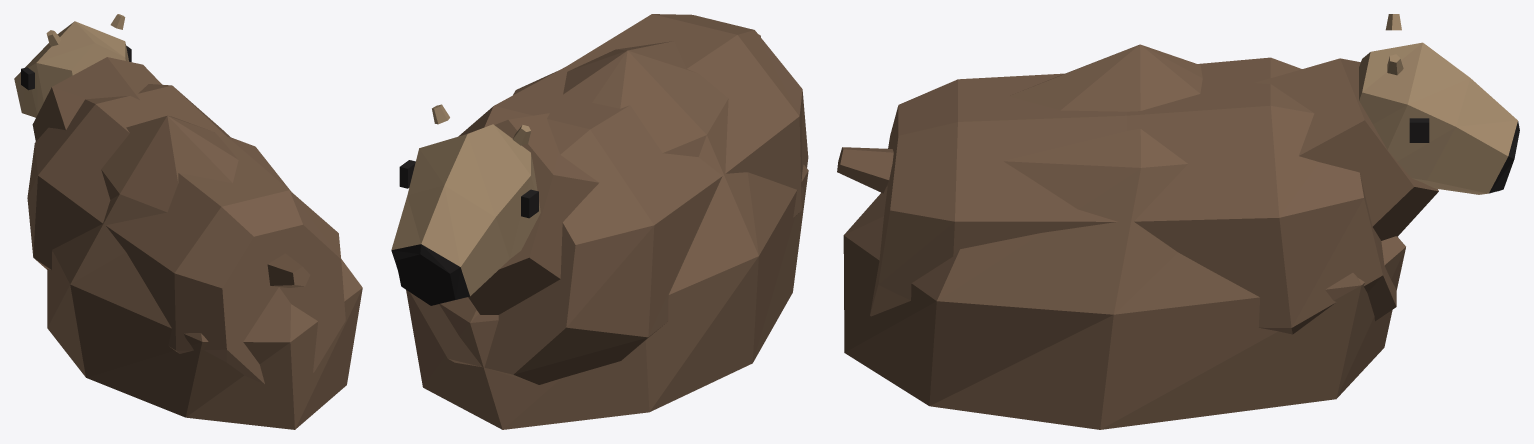
File: animal_megasloth.obj
3 views of the same model, side by side, from view 1: azimuth 30°, elevation 25°; view 2: azimuth 150°, elevation 25°; view 3: azimuth 270°, elevation 25° (orthographic). The views are drawn at different scales.
Parts seen in each view (by area): view 1: animal_megasloth; view 2: animal_megasloth; view 3: animal_megasloth.
Part boxes in pixels (x1,y1,x2,y2): animal_megasloth: (14,14,362,429); animal_megasloth: (391,14,808,429); animal_megasloth: (837,14,1519,429).
Size of the model in its own units: 1.21 by 1.36 by 2.34.
